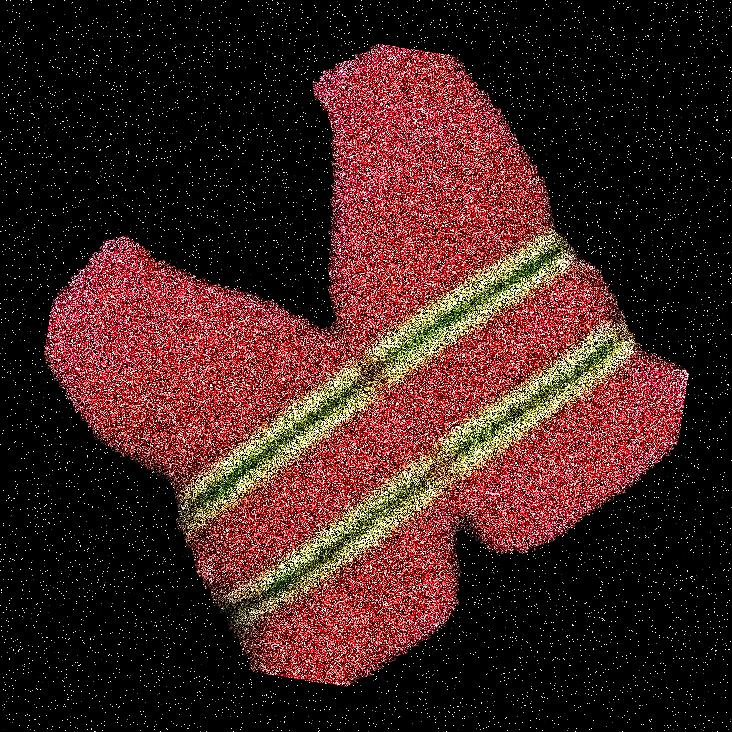Colete: (209, 0, 564, 731)
